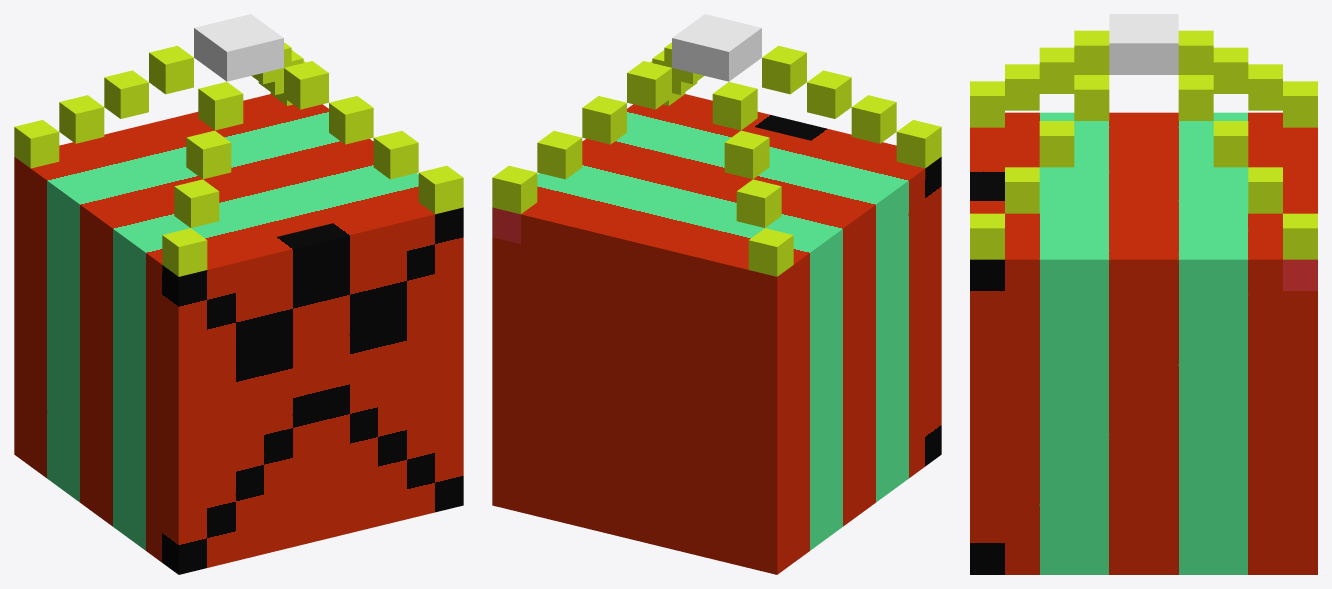
File: Andy.fbx
3 views of the same model, side by side, from view 1: azimuth 30°, elevation 25°; view 2: azimuth 150°, elevation 25°; view 3: azimuth 270°, elevation 25° (orthographic). The views are drawn at different scales.
Visible parts, largest first — view 1: Andy; view 2: Andy; view 3: Andy.
Boxes of the visible parts, x1=… form: Andy: x1=14, y1=14, x2=463, y2=574; Andy: x1=492, y1=14, x2=941, y2=574; Andy: x1=970, y1=14, x2=1317, y2=574.
Size of the model in its own units: 10 by 15 by 10.
Materials: 1 (1 with a texture image).
